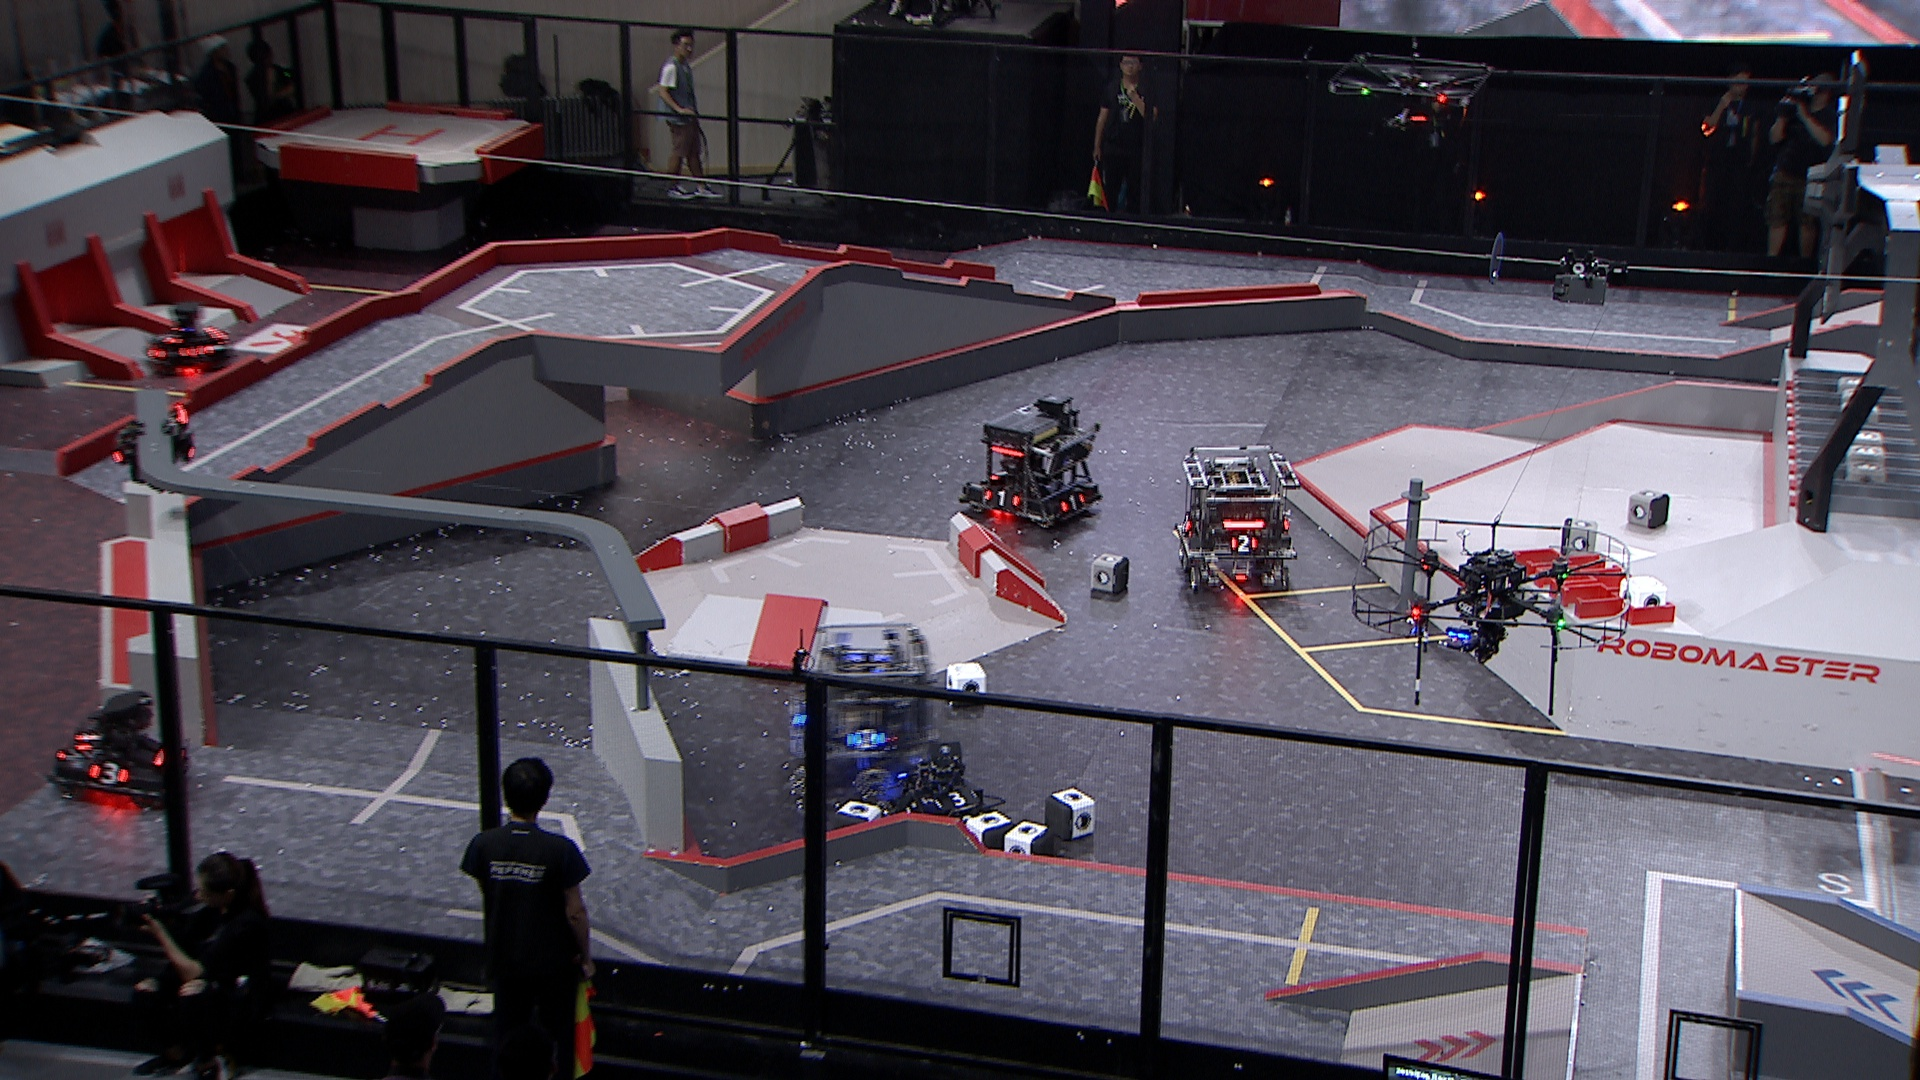armor: (851, 727, 884, 750), (939, 789, 975, 808), (74, 721, 98, 750), (984, 491, 1021, 508), (1059, 491, 1084, 513), (91, 764, 125, 779), (186, 345, 212, 365), (1230, 534, 1255, 553), (1179, 513, 1193, 535), (988, 465, 1007, 480), (158, 328, 178, 343), (204, 324, 224, 339)
car: (789, 621, 938, 799), (1168, 439, 1304, 600), (960, 394, 1105, 531), (44, 688, 191, 815), (882, 745, 993, 831), (142, 301, 237, 381)
watcher: (103, 405, 204, 493)
